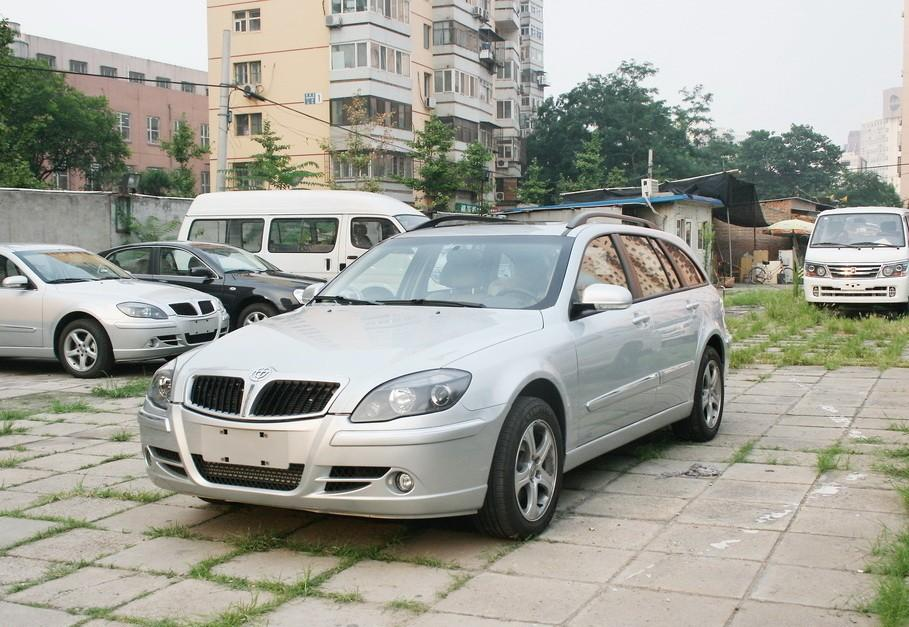Wagon: (138, 210, 733, 540)
